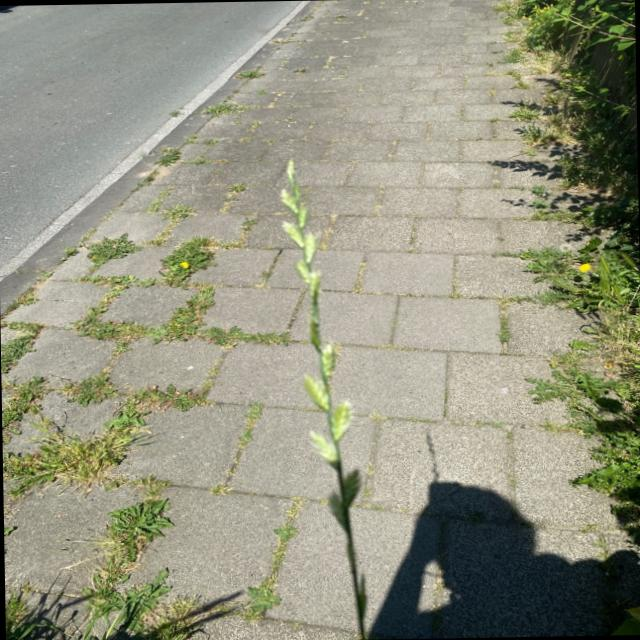Lolium: (272, 156, 372, 638)
